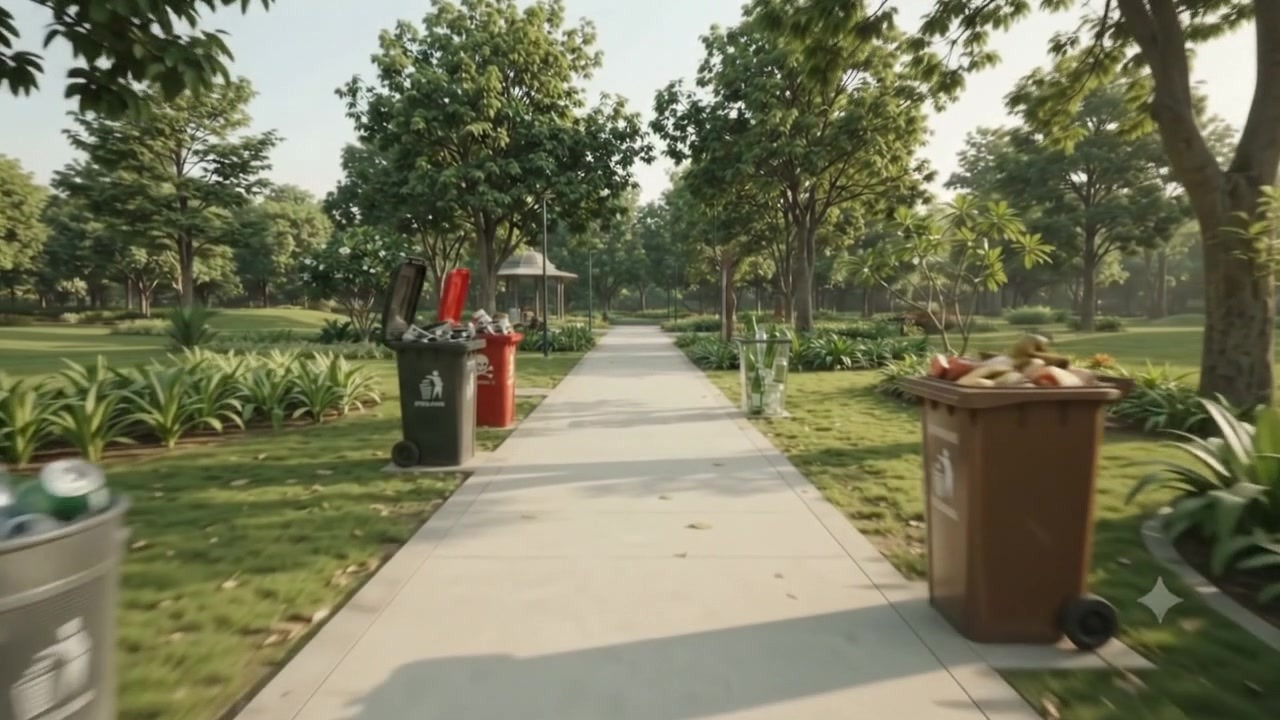organic: (896, 353, 1101, 655)
